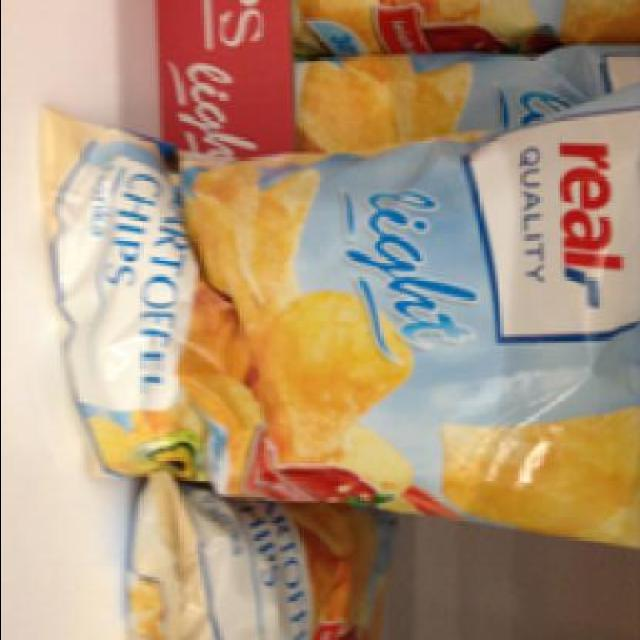Chips: (44, 88, 638, 552)
